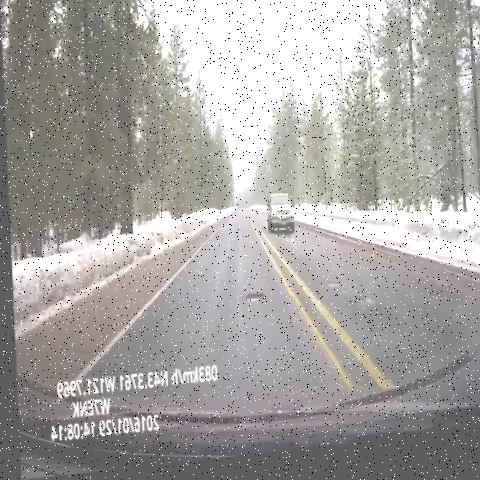pothole: (236, 291, 267, 317), (236, 232, 248, 249)
